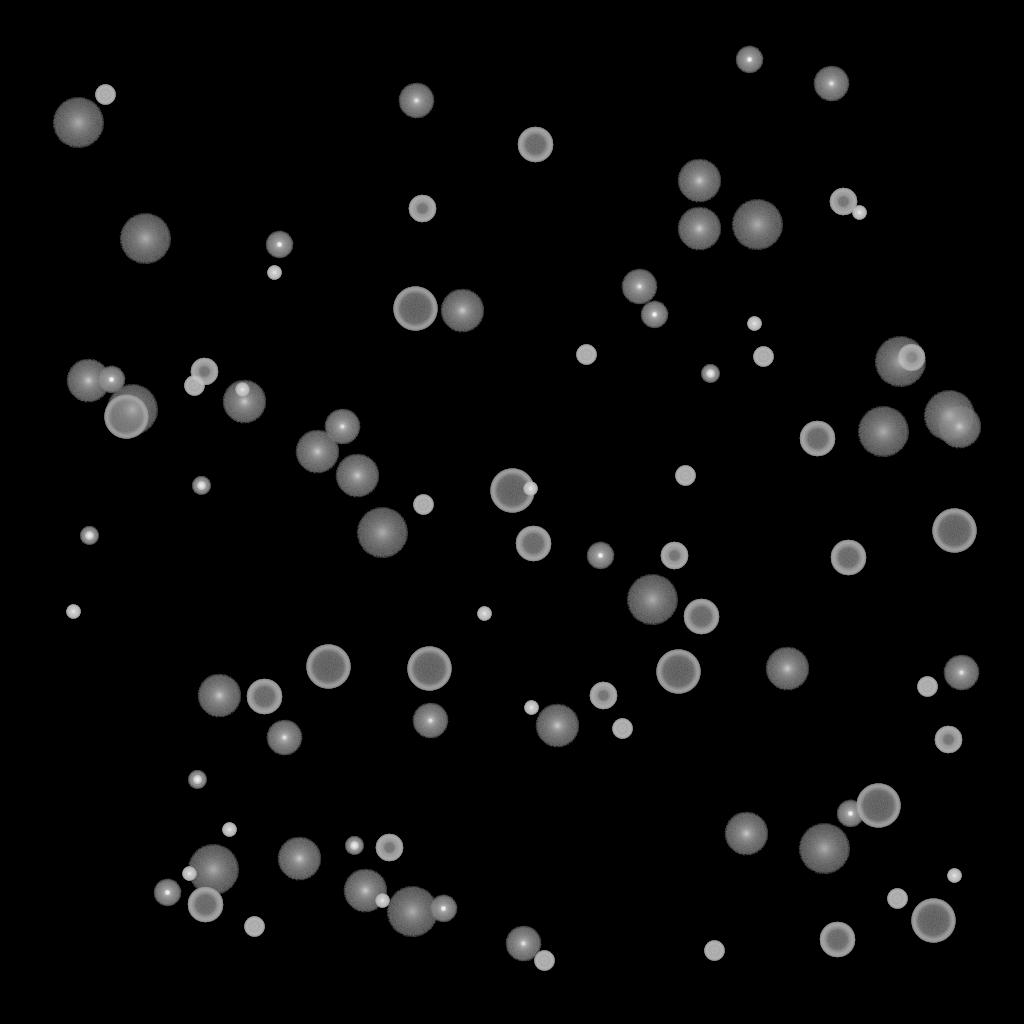depth:-10: (153, 879, 181, 907), (265, 231, 293, 259), (836, 800, 864, 828), (640, 301, 668, 329), (735, 46, 763, 74), (429, 895, 457, 923), (586, 542, 614, 570), (97, 366, 125, 394)
depth:-20: (188, 771, 206, 789), (80, 527, 98, 545), (192, 477, 210, 495), (701, 365, 719, 383), (345, 837, 363, 855)
depth:-30: (523, 482, 537, 496), (235, 383, 249, 397), (524, 701, 538, 715), (852, 206, 866, 220), (947, 869, 961, 883), (747, 317, 761, 331), (182, 867, 196, 881), (222, 823, 236, 837), (477, 607, 491, 621), (375, 894, 389, 908), (66, 605, 80, 619), (267, 266, 281, 280)
depth:-40: (413, 495, 433, 515), (95, 85, 115, 105), (917, 677, 937, 697), (576, 345, 596, 365), (184, 376, 204, 396), (753, 347, 773, 367), (704, 941, 724, 961), (534, 951, 554, 971), (887, 889, 907, 909), (612, 719, 632, 739), (675, 466, 695, 486), (244, 917, 264, 937)
depth:-50: (408, 195, 436, 223), (589, 682, 617, 710), (829, 188, 857, 216), (897, 344, 925, 372), (660, 542, 688, 570), (375, 834, 403, 862), (190, 358, 218, 386), (934, 726, 962, 754)
depth:-60: (515, 526, 551, 562), (830, 540, 866, 576), (517, 127, 553, 163), (187, 887, 223, 923), (819, 922, 855, 958), (246, 679, 282, 715), (799, 421, 835, 457), (683, 599, 719, 635)
depth:-70: (911, 899, 955, 943), (306, 645, 350, 689), (407, 647, 451, 691), (932, 509, 976, 553), (393, 287, 437, 331), (856, 784, 900, 828), (656, 650, 700, 694), (490, 469, 534, 513), (104, 395, 148, 439)
depth:0: (505, 926, 541, 962), (324, 409, 360, 445), (813, 66, 849, 102), (412, 703, 448, 739), (266, 720, 302, 756), (398, 83, 434, 119), (621, 269, 657, 305), (943, 655, 979, 691)
depth:10: (724, 812, 768, 856), (335, 454, 379, 498), (197, 674, 241, 718), (295, 430, 339, 474), (222, 380, 266, 424), (277, 837, 321, 881), (937, 405, 981, 449), (343, 869, 387, 913), (535, 704, 579, 748), (677, 207, 721, 251), (765, 647, 809, 691), (677, 159, 721, 203), (440, 289, 484, 333), (66, 359, 110, 403)
depth:20: (119, 214, 171, 264), (356, 508, 408, 558), (187, 845, 239, 895), (52, 98, 104, 148), (731, 200, 783, 250), (923, 391, 975, 441), (874, 337, 926, 387), (857, 407, 909, 457), (106, 385, 158, 435), (386, 887, 438, 937), (626, 575, 678, 625), (798, 824, 850, 874)
